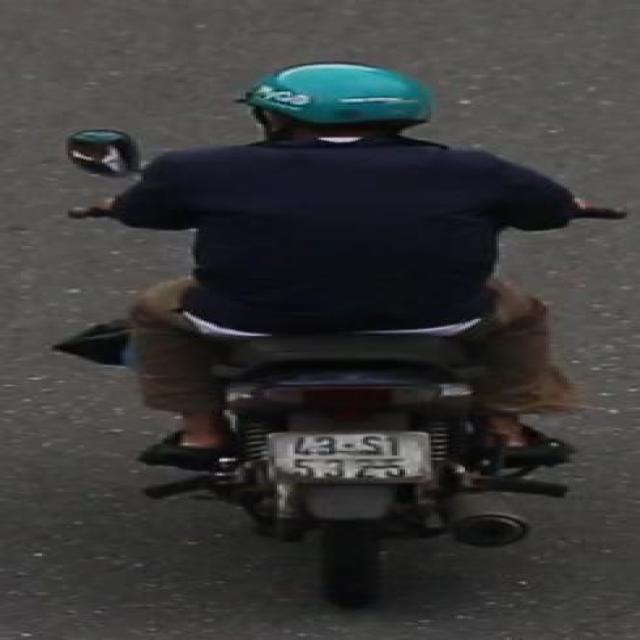LP: (262, 426, 446, 486)
helmet: (228, 56, 460, 160)
